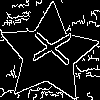X: (23, 29, 71, 66)
